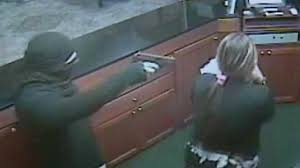gun: (126, 49, 176, 85)
